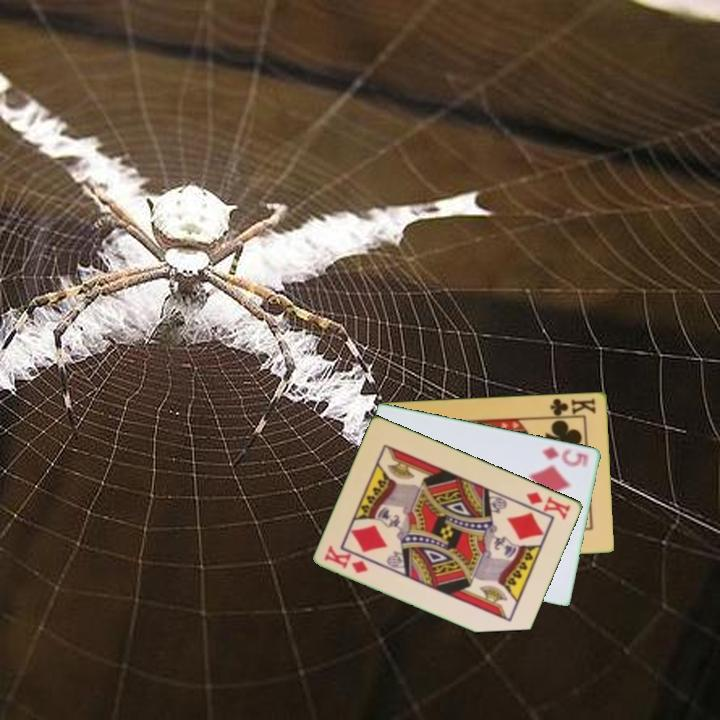5d: (538, 444, 592, 470)
Kc: (545, 394, 599, 420)
Kd: (522, 488, 574, 523), (321, 542, 371, 576)
